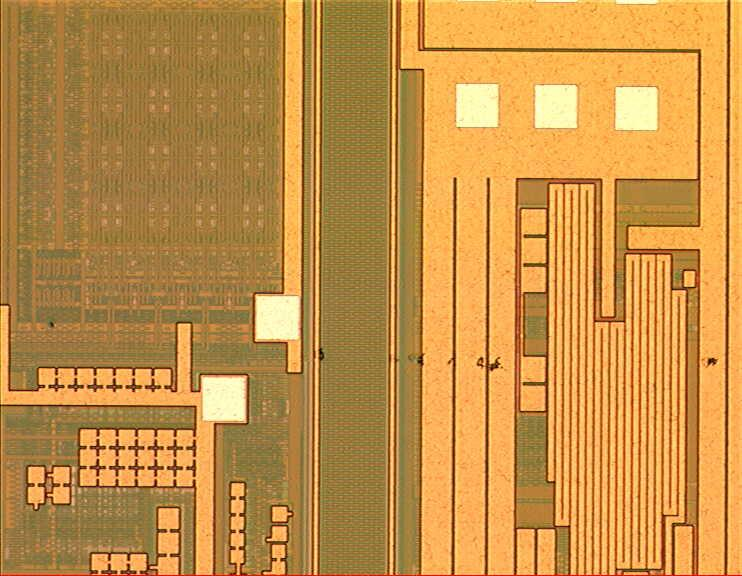SCRATCH: (306, 342, 735, 379)
